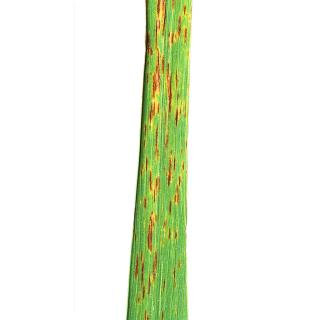Bercak-Cokelat-Sempit: (146, 50, 170, 124), (134, 254, 163, 301), (174, 68, 188, 128), (165, 150, 181, 185), (142, 211, 154, 252), (170, 263, 183, 296), (176, 17, 191, 44), (168, 188, 182, 216), (156, 1, 166, 36), (148, 176, 160, 204), (143, 32, 155, 54), (167, 30, 179, 48), (154, 127, 159, 163), (143, 307, 155, 320), (141, 159, 152, 173), (168, 231, 182, 241), (164, 131, 171, 149), (183, 136, 192, 148), (159, 221, 168, 232), (160, 310, 166, 320), (171, 0, 178, 8), (182, 7, 189, 14), (182, 161, 186, 171), (144, 125, 147, 137)
